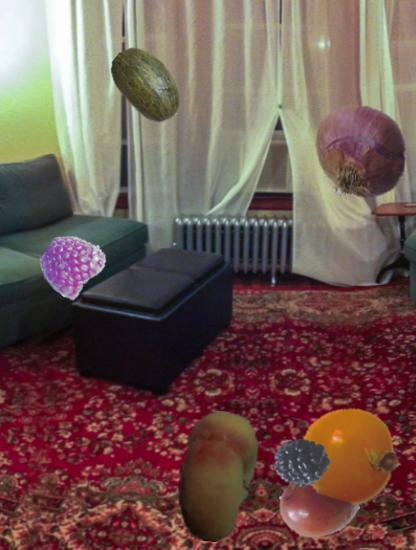Melon: (106, 43, 189, 126)
Mulberry: (261, 434, 333, 506)
Onion: (309, 104, 411, 206)
Peach: (152, 411, 284, 543)
Physalis: (299, 404, 402, 507)
Potato: (279, 464, 360, 545)
Raspberry: (40, 233, 103, 296)
